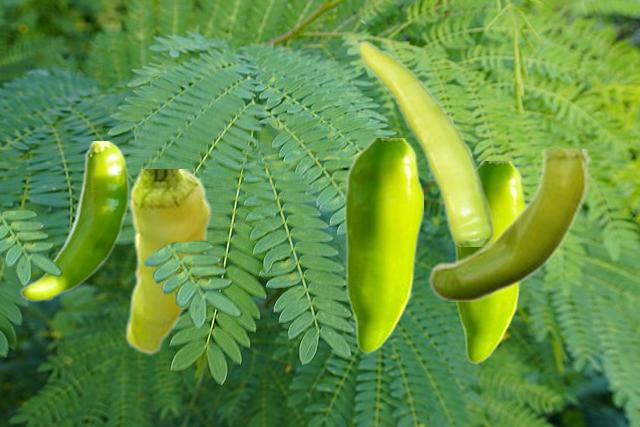green_chili: (357, 38, 492, 245), (427, 149, 590, 300), (19, 141, 129, 301), (344, 138, 422, 353), (124, 169, 211, 354), (454, 161, 527, 363)
